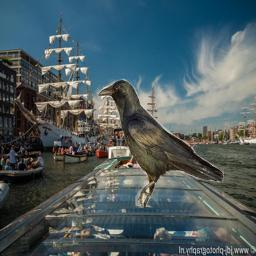Crow: (96, 78, 224, 208)
